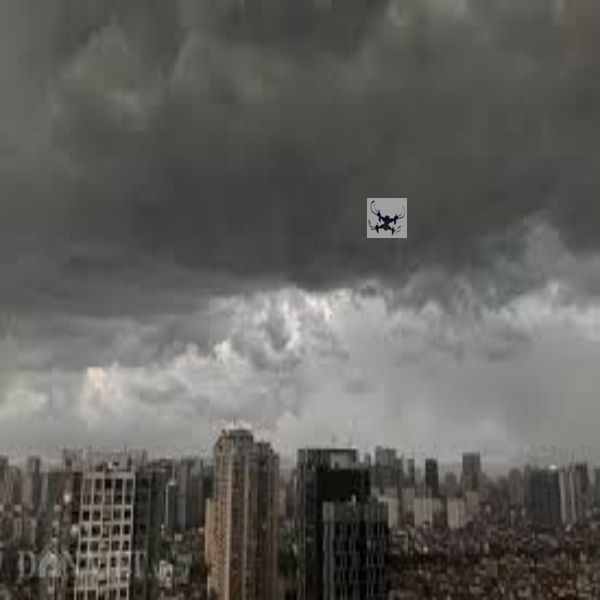drone: (365, 195, 410, 240)
